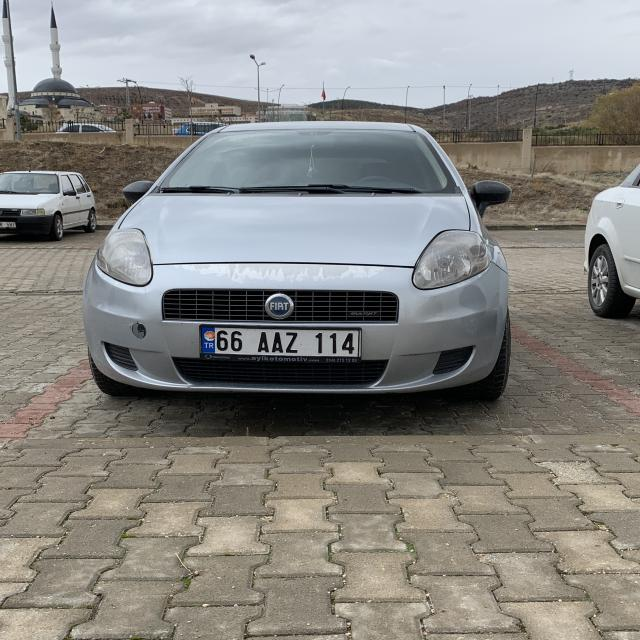license_plate: (200, 327, 360, 356)
